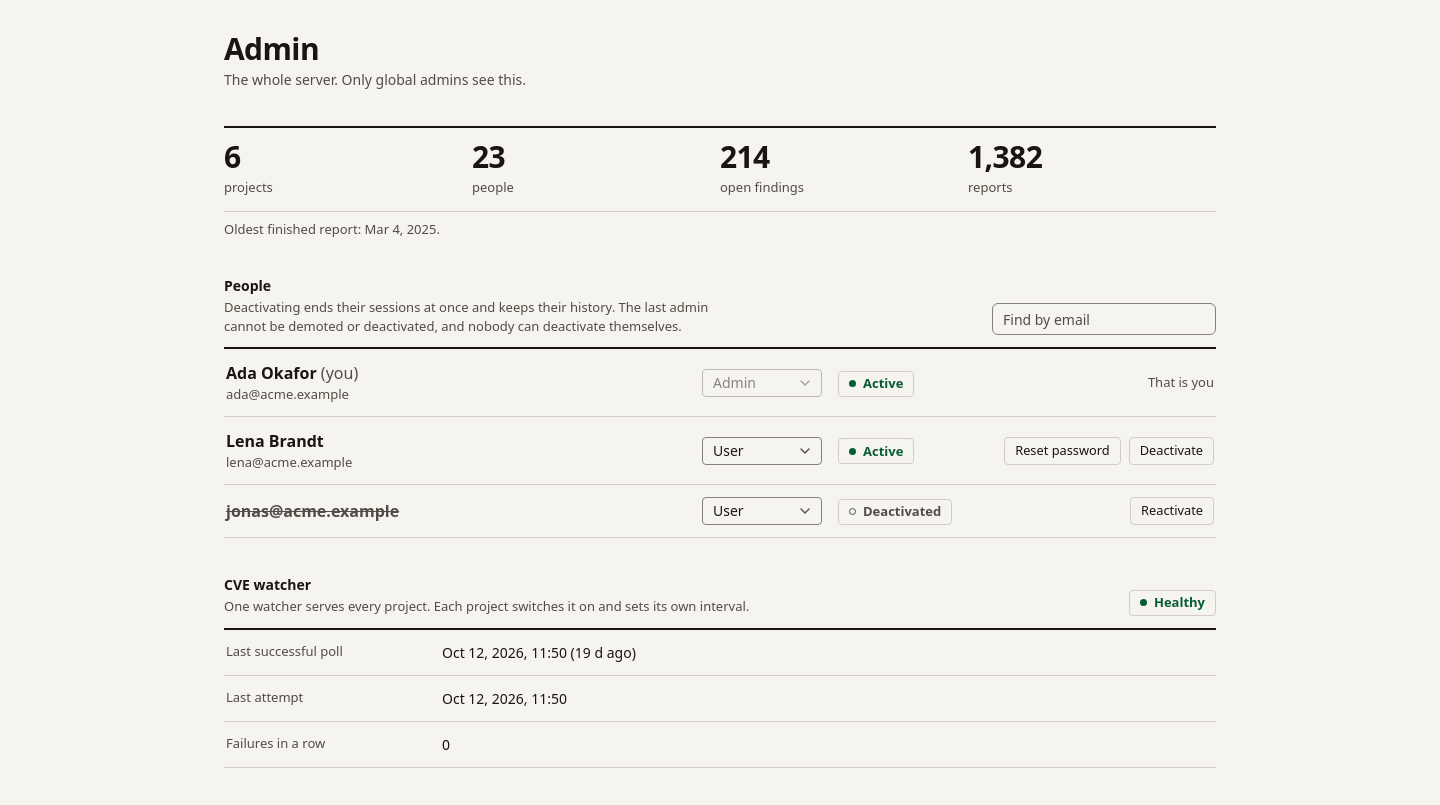
it: Admin › people › changes a role
Click the dropdown named "Role of Lena Brandt" at (762, 451), box [702,437,822,465]
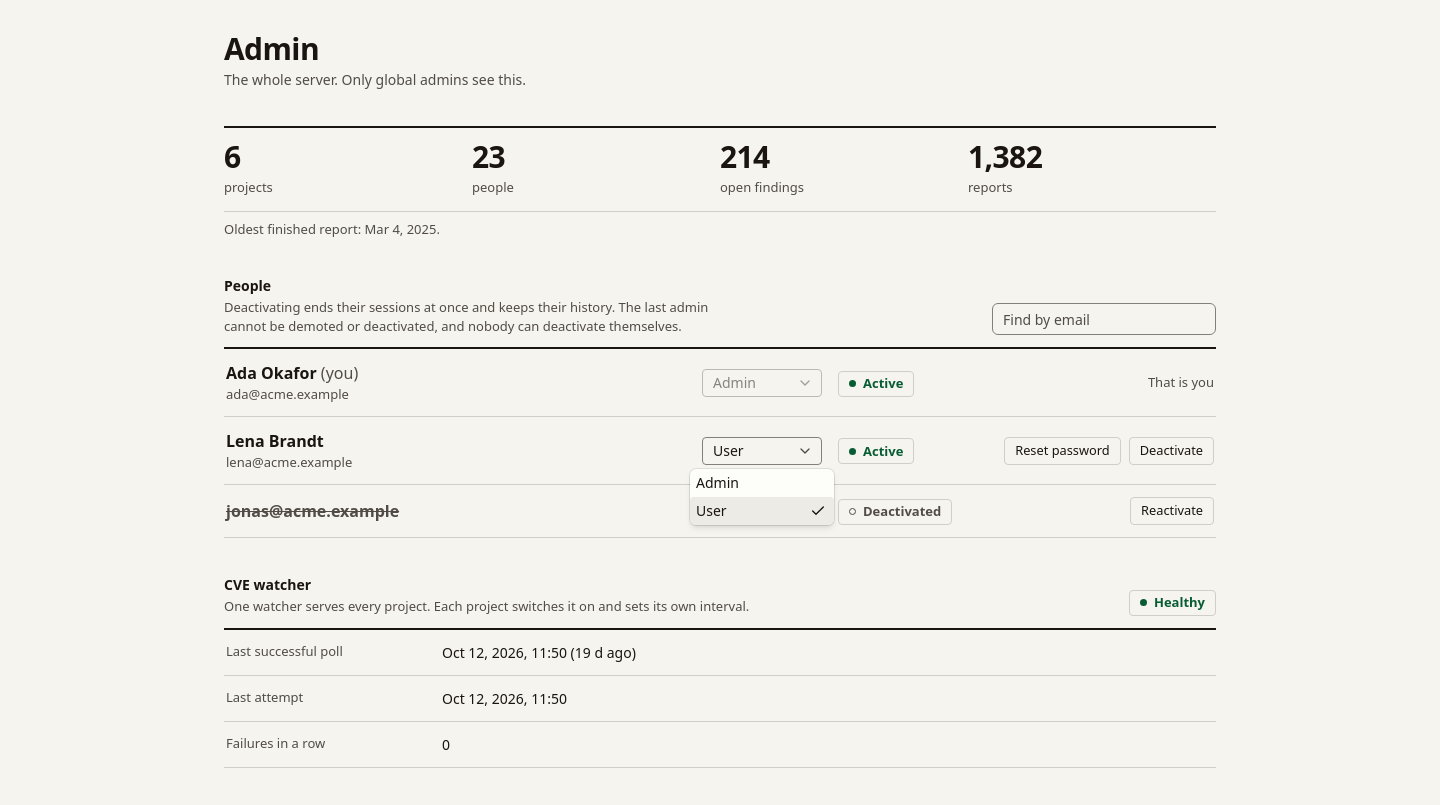
Click the option "Admin" at (717, 482), box [696,473,739,492]
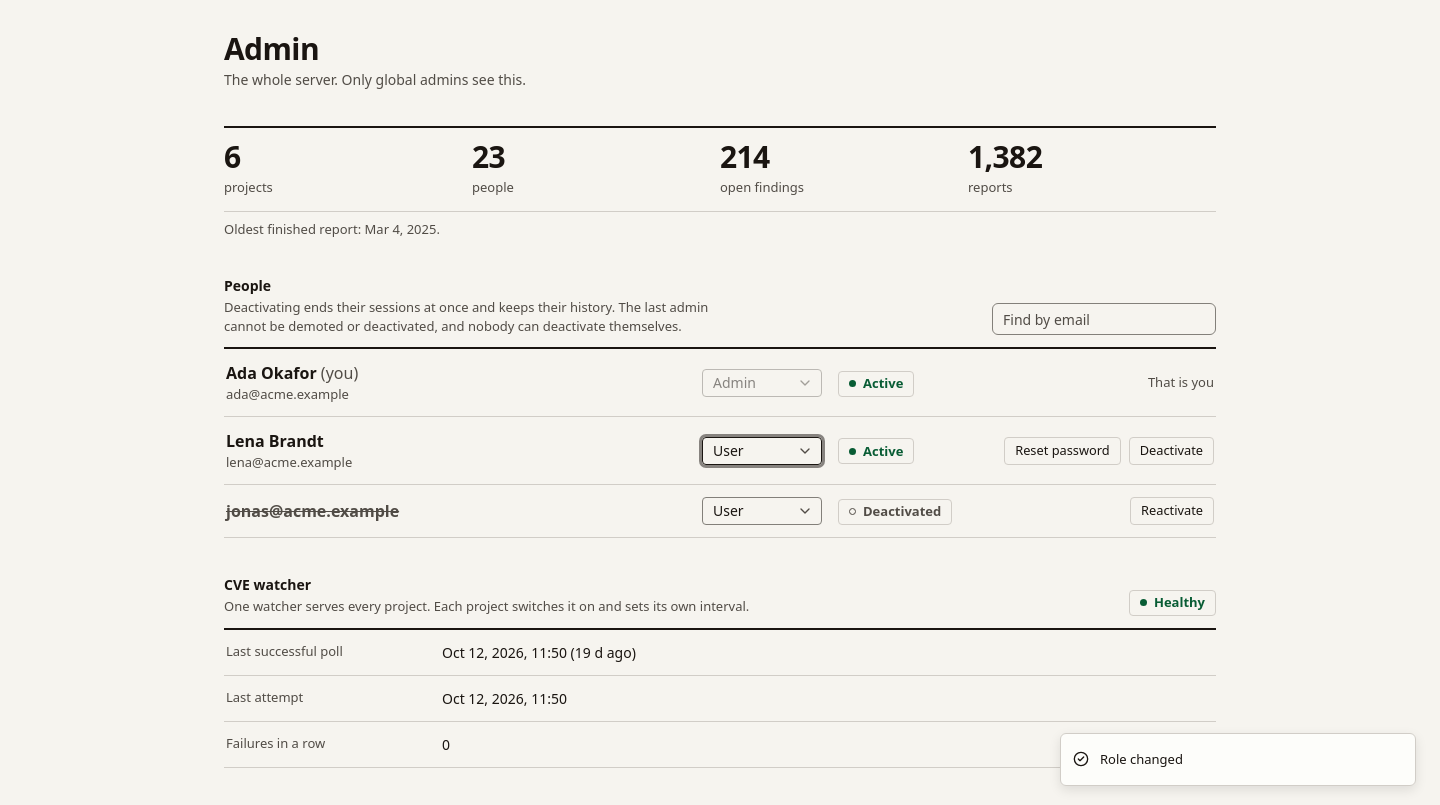
Check: the text "Role changed" is shown, box [1100,750,1183,769]
